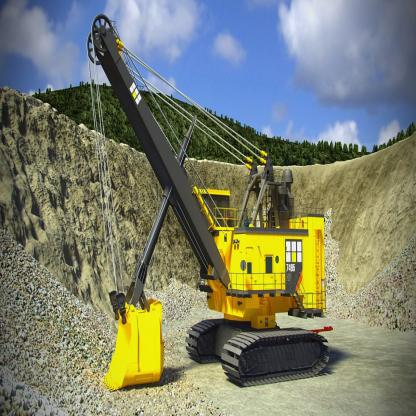excavator: (76, 9, 350, 396)
